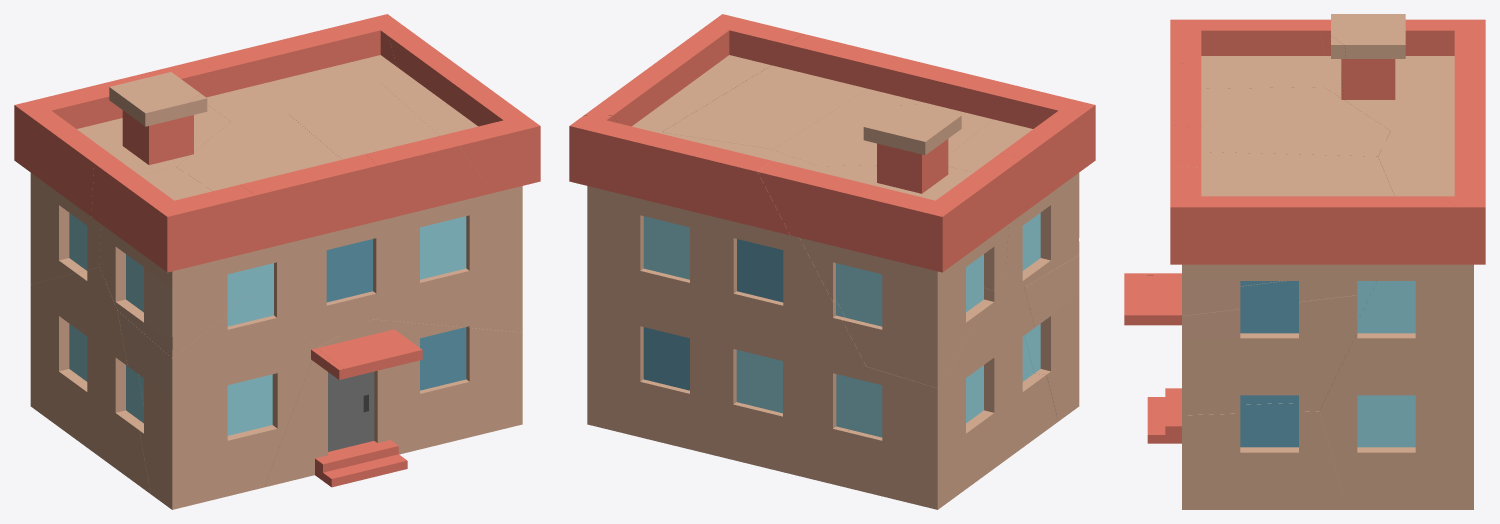
Rendered from House 2.2 Fractured.fbx.
3 renders of one model, left to right at view 1: azimuth 30°, elevation 25°; view 2: azimuth 150°, elevation 25°; view 3: azimuth 270°, elevation 25°, orthographic. The views are drawn at different scales.
Parts seen in each view (by area): view 1: House_Type2_2_Breaking_cell.005, House_Type2_2_Breaking_cell.008, House_Type2_2_Breaking_cell.004, House_Type2_2_Breaking_cell, House_Type2_2_Breaking_cell.002, House_Type2_2_Breaking_cell.001, House_Type2_2_Breaking_cell.006, House_Type2_2_Breaking_cell.003, House_Type2_2_Breaking_cell.007; view 2: House_Type2_2_Breaking_cell.007, House_Type2_2_Breaking_cell.002, House_Type2_2_Breaking_cell.006, House_Type2_2_Breaking_cell.001, House_Type2_2_Breaking_cell.005, House_Type2_2_Breaking_cell.003, House_Type2_2_Breaking_cell.004, House_Type2_2_Breaking_cell; view 3: House_Type2_2_Breaking_cell.007, House_Type2_2_Breaking_cell.005, House_Type2_2_Breaking_cell.003, House_Type2_2_Breaking_cell.008, House_Type2_2_Breaking_cell.002, House_Type2_2_Breaking_cell.004, House_Type2_2_Breaking_cell.001.
Boxes of the visible parts, left/top/right/bottom form: House_Type2_2_Breaking_cell.005: left=288, top=81, right=522, bottom=332; House_Type2_2_Breaking_cell.008: left=264, top=319, right=522, bottom=487; House_Type2_2_Breaking_cell.004: left=176, top=93, right=378, bottom=346; House_Type2_2_Breaking_cell: left=117, top=295, right=343, bottom=509; House_Type2_2_Breaking_cell.002: left=14, top=60, right=230, bottom=284; House_Type2_2_Breaking_cell.001: left=91, top=158, right=255, bottom=358; House_Type2_2_Breaking_cell.006: left=30, top=267, right=150, bottom=493; House_Type2_2_Breaking_cell.003: left=379, top=24, right=540, bottom=235; House_Type2_2_Breaking_cell.007: left=200, top=14, right=401, bottom=121; House_Type2_2_Breaking_cell.007: left=569, top=115, right=866, bottom=484; House_Type2_2_Breaking_cell.002: left=758, top=105, right=1021, bottom=388; House_Type2_2_Breaking_cell.006: left=833, top=270, right=1058, bottom=509; House_Type2_2_Breaking_cell.001: left=948, top=83, right=1095, bottom=286; House_Type2_2_Breaking_cell.005: left=662, top=34, right=884, bottom=149; House_Type2_2_Breaking_cell.003: left=584, top=14, right=803, bottom=132; House_Type2_2_Breaking_cell.004: left=773, top=53, right=1006, bottom=166; House_Type2_2_Breaking_cell: left=1024, top=255, right=1079, bottom=421; House_Type2_2_Breaking_cell.007: left=1319, top=112, right=1485, bottom=509; House_Type2_2_Breaking_cell.005: left=1170, top=125, right=1394, bottom=415; House_Type2_2_Breaking_cell.003: left=1170, top=166, right=1455, bottom=315; House_Type2_2_Breaking_cell.008: left=1124, top=275, right=1347, bottom=509; House_Type2_2_Breaking_cell.002: left=1321, top=14, right=1485, bottom=130; House_Type2_2_Breaking_cell.004: left=1170, top=36, right=1390, bottom=156; House_Type2_2_Breaking_cell.001: left=1170, top=19, right=1323, bottom=88.
Size of the model in its own units: 702 by 598 by 572.
